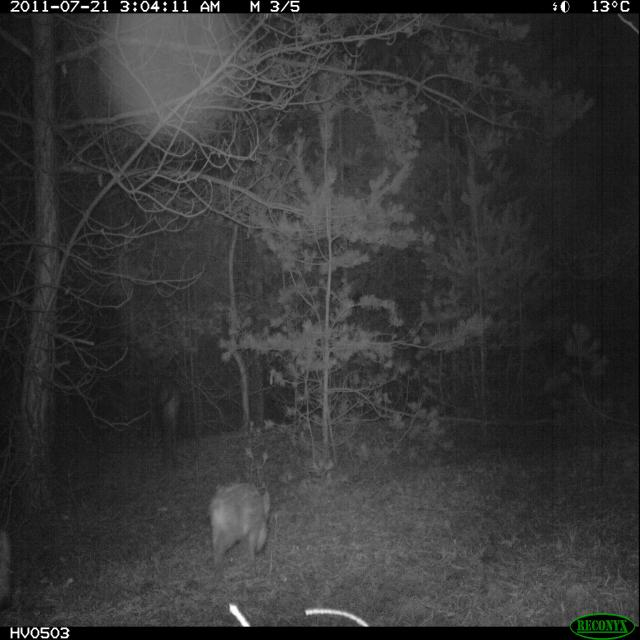boar: (190, 476, 299, 566), (148, 370, 190, 440)
